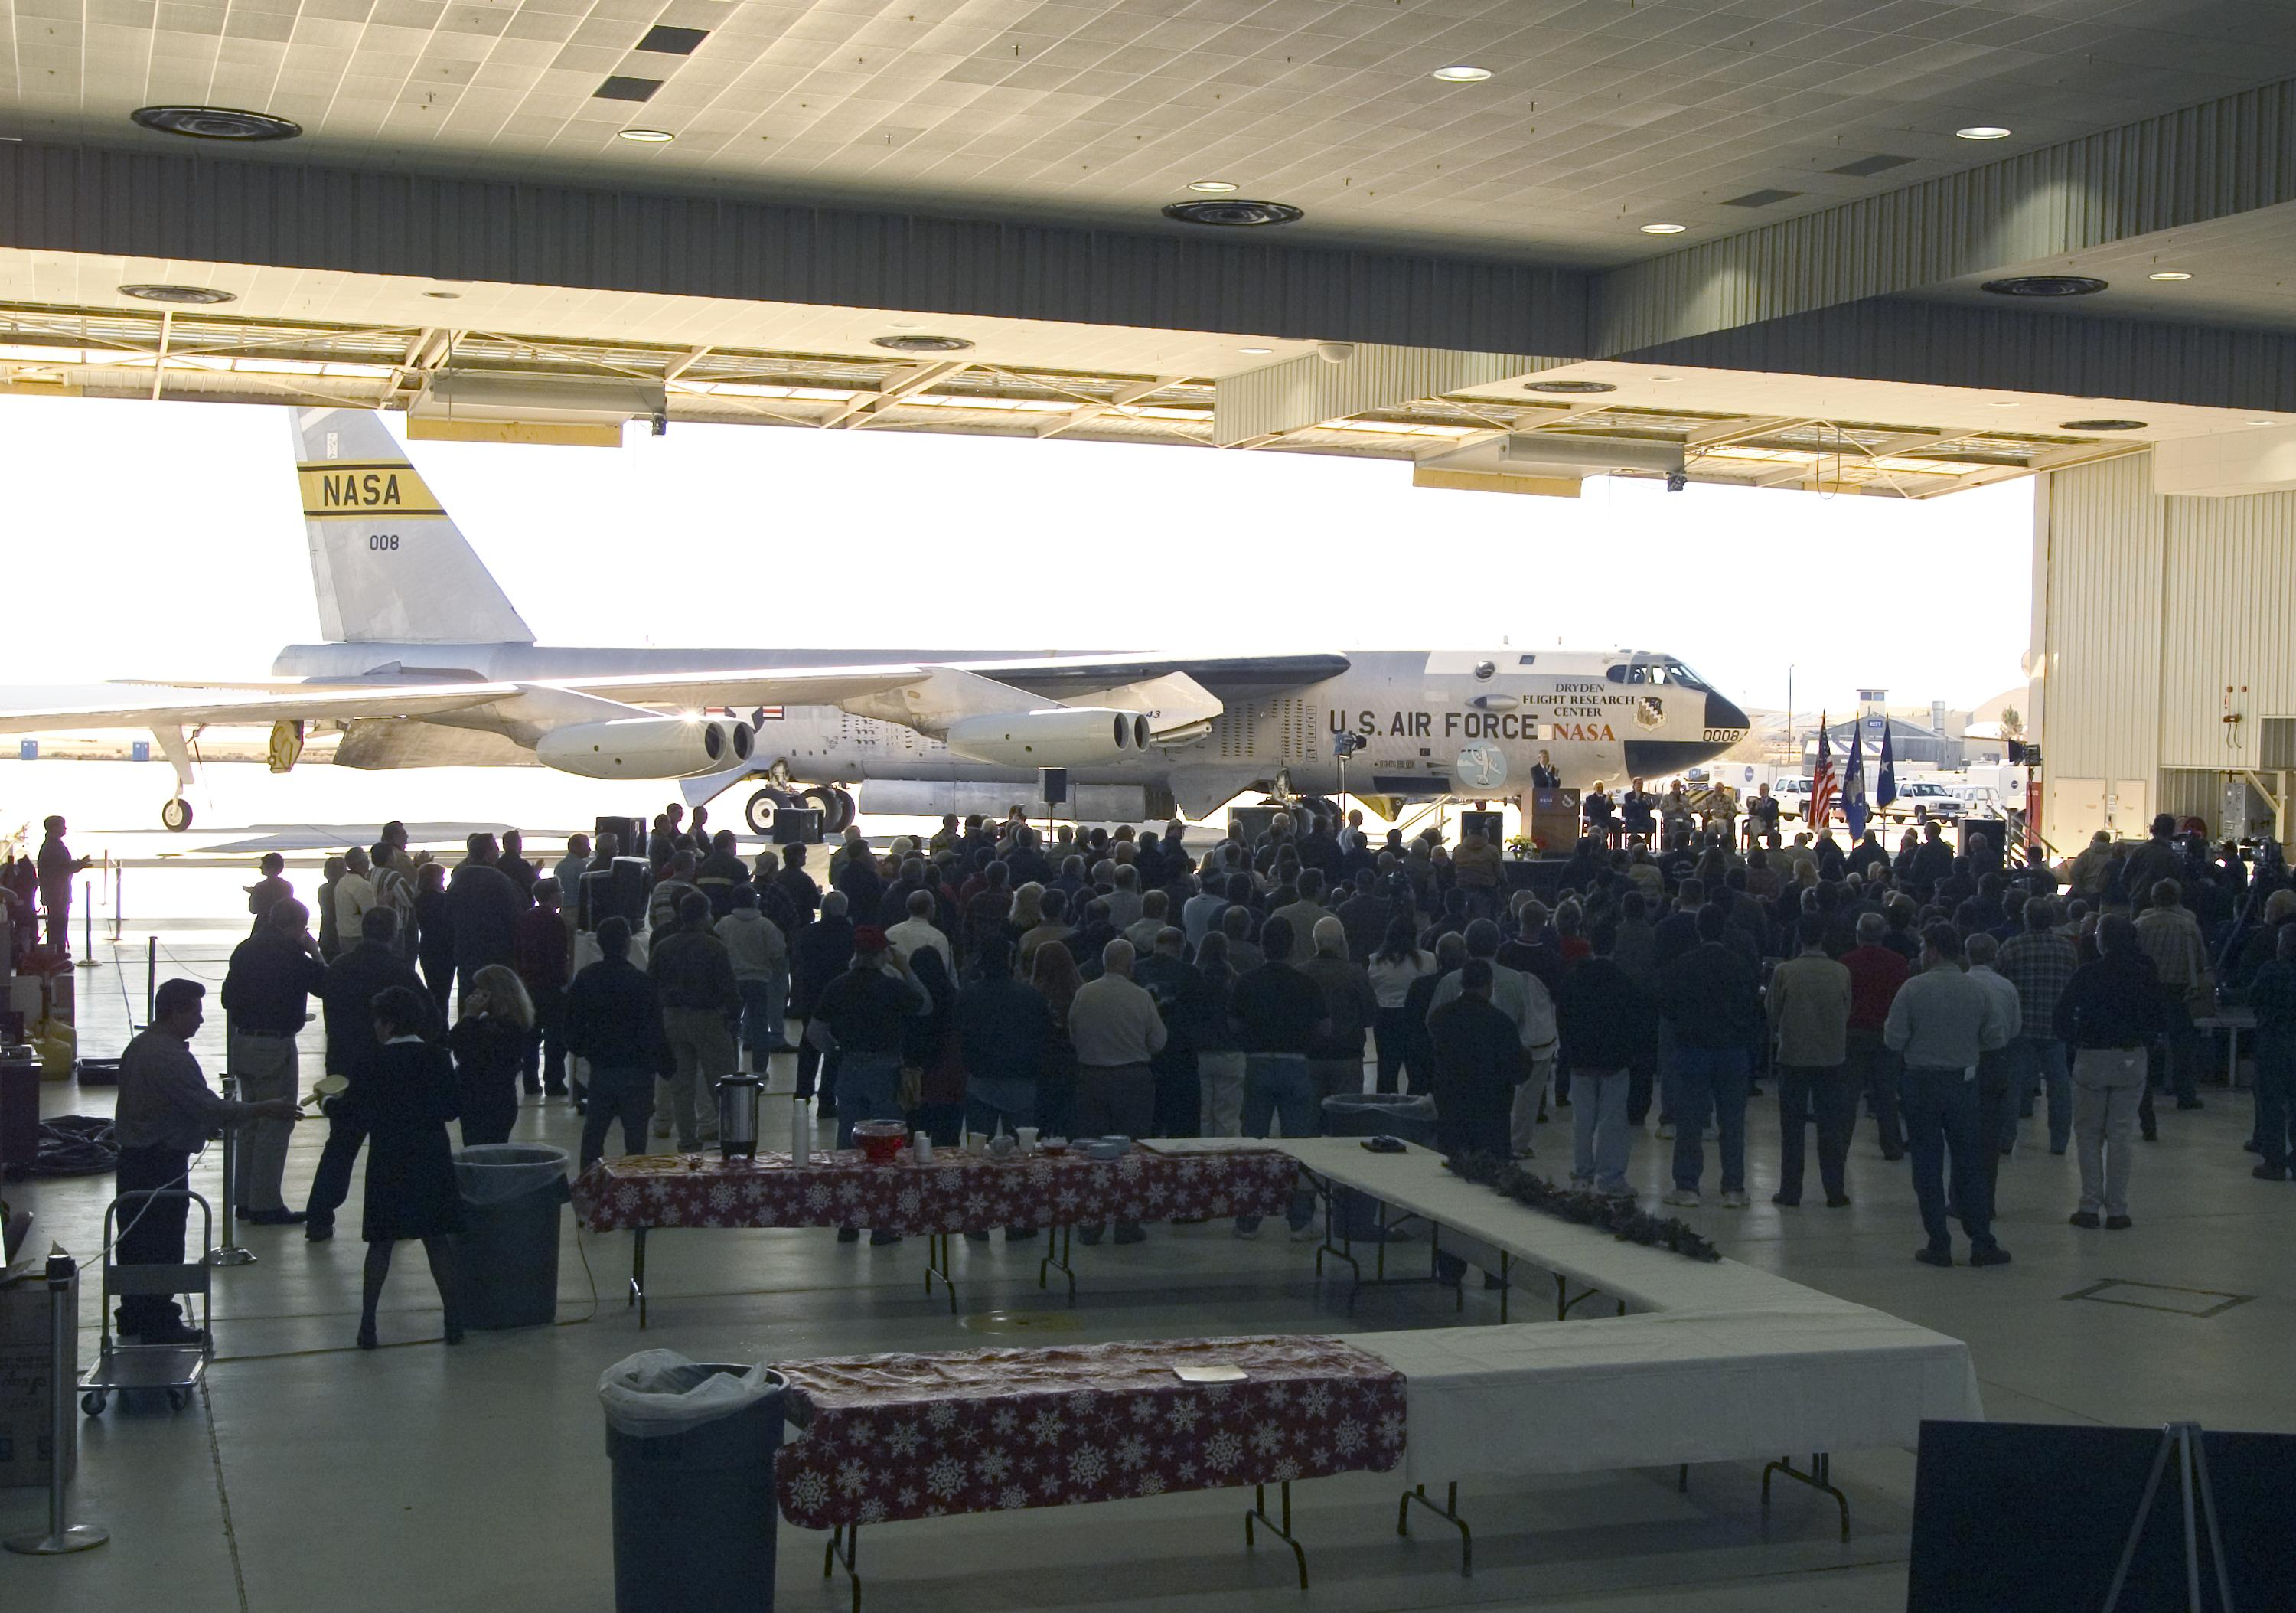B52: (0, 405, 1750, 840)
